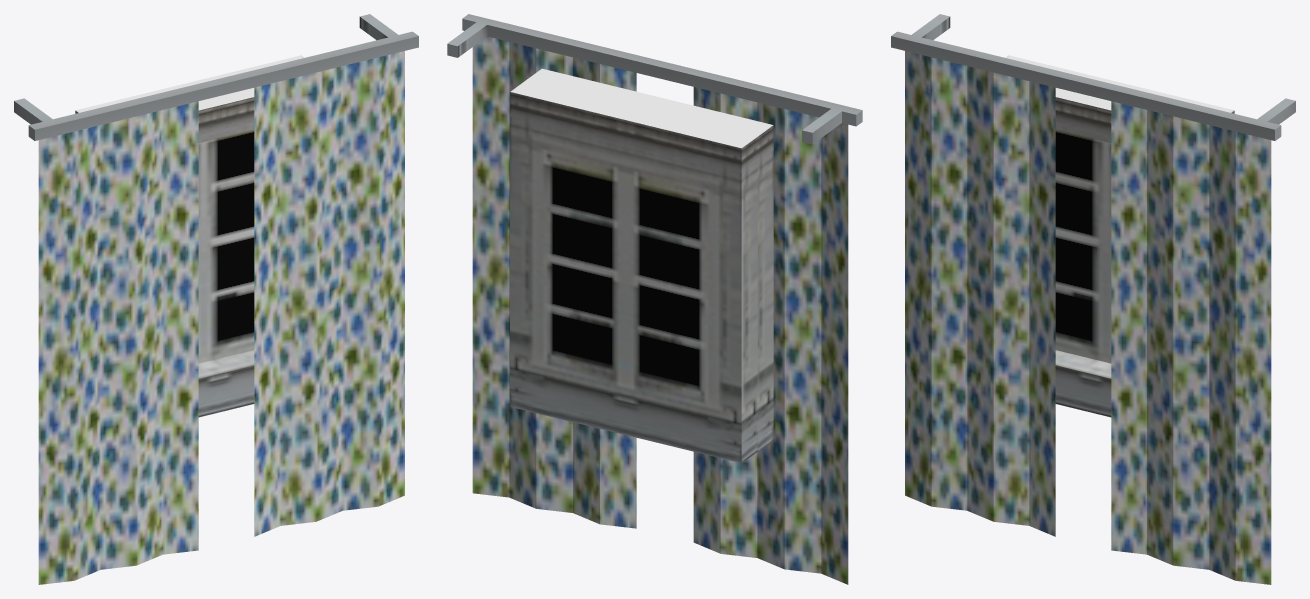
Rendered from Fenetre.fbx.
3 renders of one model, left to right at view 1: azimuth 30°, elevation 25°; view 2: azimuth 150°, elevation 25°; view 3: azimuth 330°, elevation 25°, orthographic. The views are drawn at different scales.
Visible parts, largest first — view 1: Cube.001, Cube; view 2: Cube, Cube.001; view 3: Cube.001, Cube.
Part boxes in pixels (x1=…): Cube.001: x1=14, y1=14, x2=418, y2=584; Cube: x1=75, y1=55, x2=304, y2=417; Cube: x1=510, y1=68, x2=773, y2=463; Cube.001: x1=447, y1=14, x2=862, y2=584; Cube.001: x1=891, y1=14, x2=1295, y2=584; Cube: x1=1005, y1=55, x2=1234, y2=417.
Bounding box in the file's own units: 495 × 567 × 86.4.
Materials: 2 (2 with a texture image).
